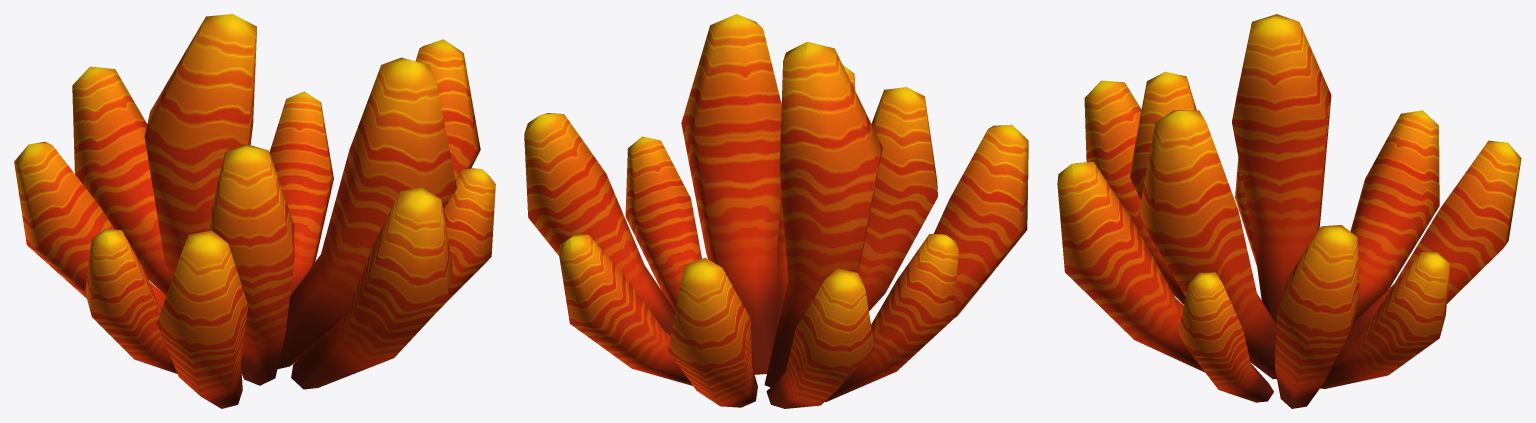
File: Coral_06c.FBX
The picture shows the model from 3 angles, left to right: view 1: azimuth 30°, elevation 25°; view 2: azimuth 150°, elevation 25°; view 3: azimuth 270°, elevation 25°; orthographic projection. The views are drawn at different scales.
Parts seen in each view (by area): view 1: Coral_06c; view 2: Coral_06c; view 3: Coral_06c.
Part boxes in pixels (left/top/right/bottom): Coral_06c: left=14, top=14, right=495, bottom=408; Coral_06c: left=524, top=14, right=1028, bottom=408; Coral_06c: left=1057, top=14, right=1521, bottom=408.
Bounding box in the file's own units: 46.81 × 39.53 × 49.36.
